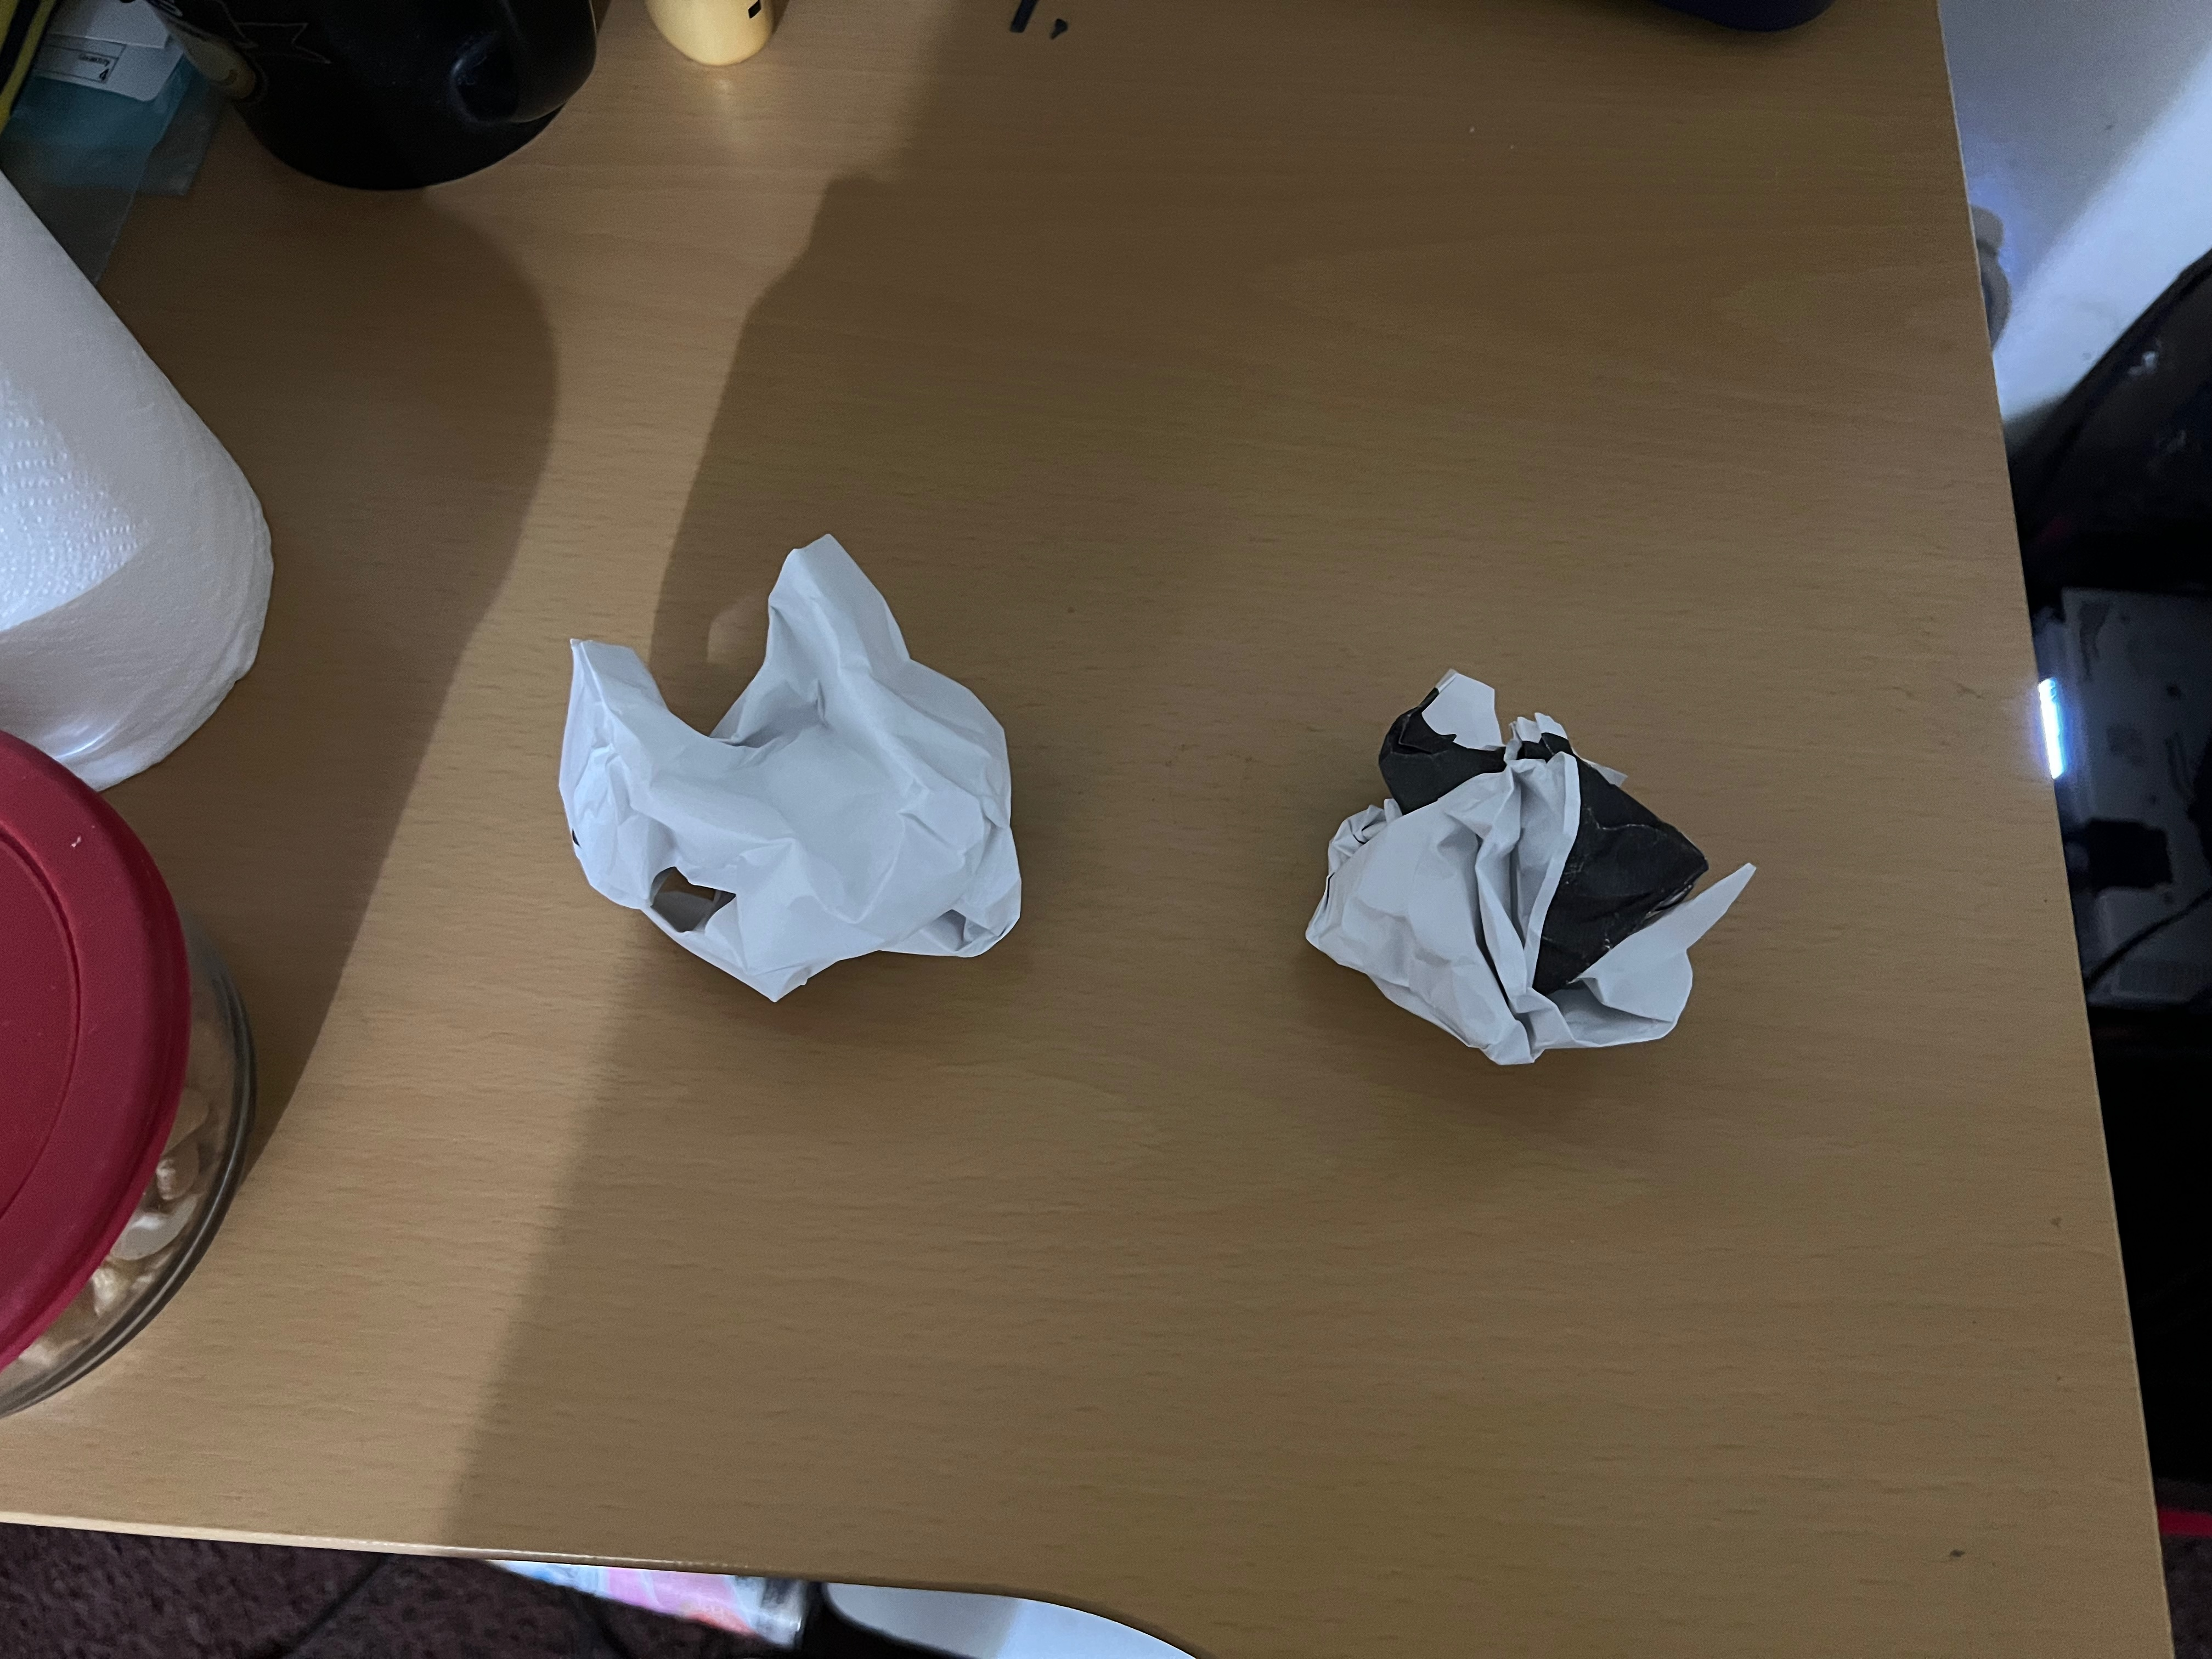trash paper: (536, 509, 1069, 1042), (1306, 643, 1768, 1140)
